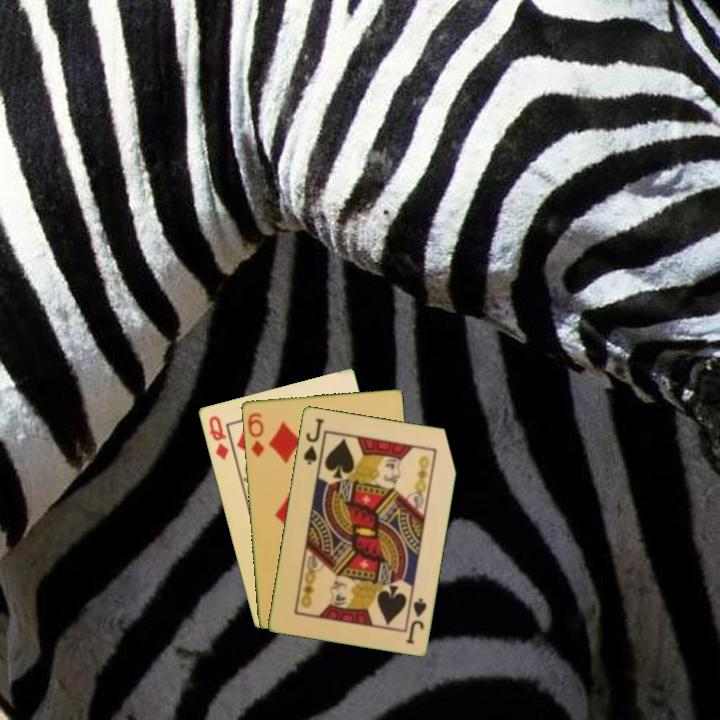6d: (244, 409, 267, 460)
Js: (300, 414, 327, 467), (402, 594, 429, 647)
Qd: (205, 412, 231, 463)
